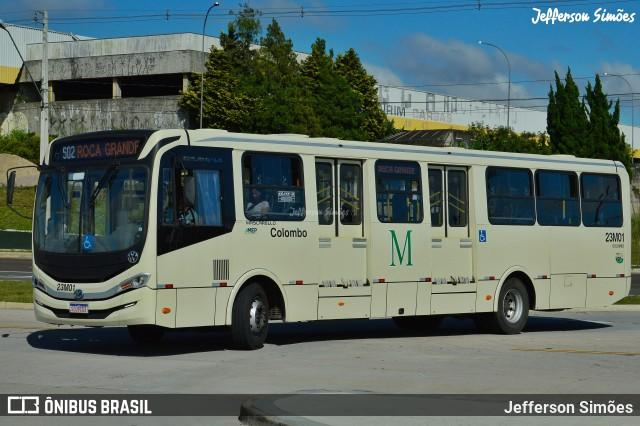ROCA GRANDE: (74, 137, 145, 163)
